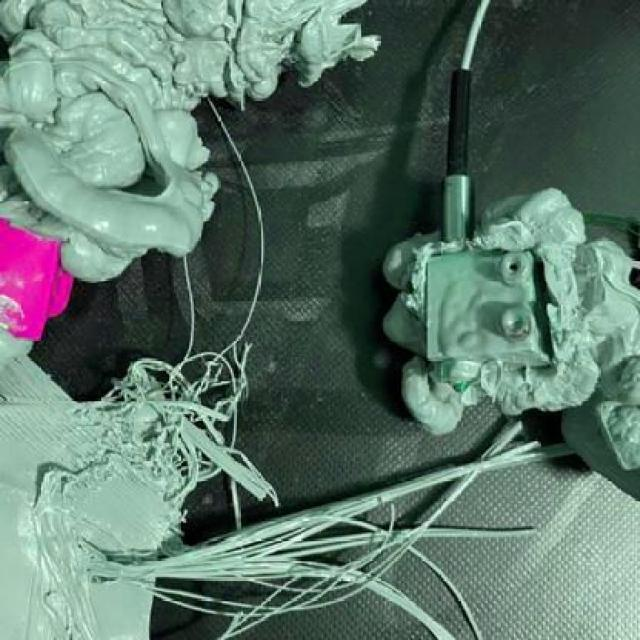spaghetti: (83, 514, 545, 639), (84, 338, 284, 511)
